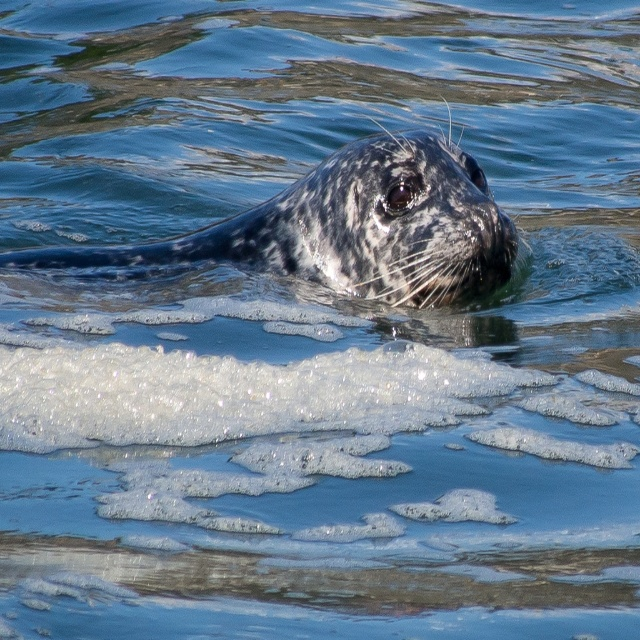Harbor seal: (0, 97, 532, 310)
